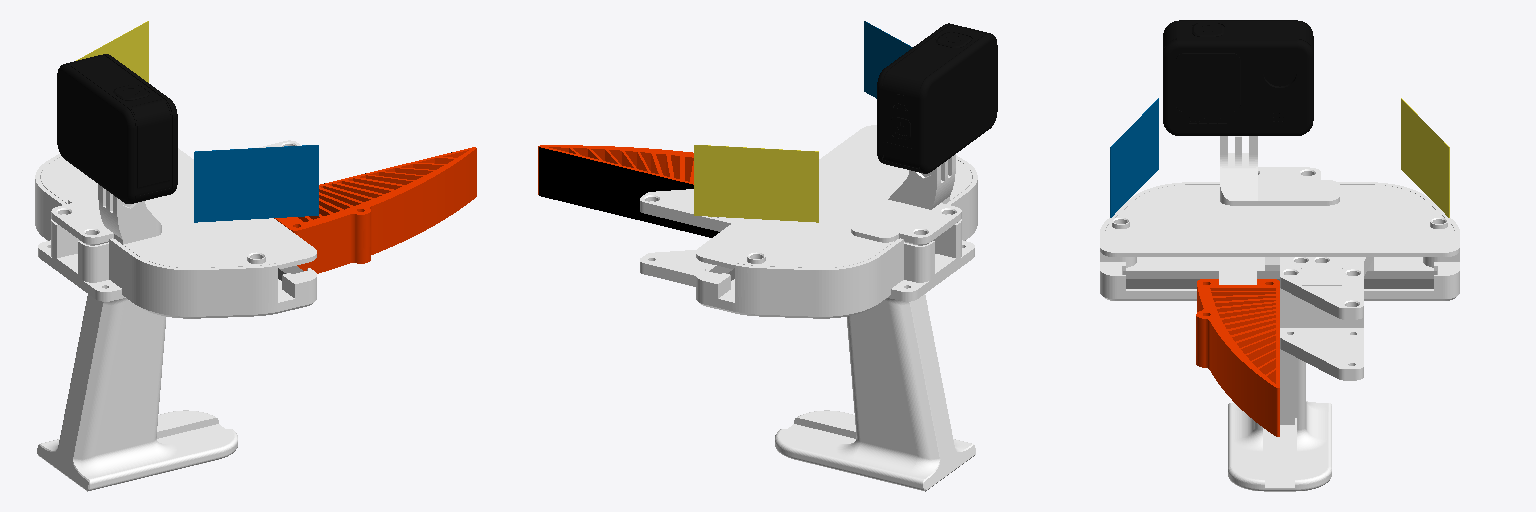
The robot description file, URDF, robot "umi_gripper":
<?xml version="1.0"?>
<robot name="umi_gripper">


  <material name="orange">
    <color rgba="1 0.27 0.0 1" />
  </material>

  <material name="dark_gray">
    <color rgba="0.1 0.1 0.1 1" />
  </material>

  <material name="white">
    <color rgba="1 1 1 1" />
  </material>

  <material name="black">
    <color rgba="0 0 0 1" />
  </material>

  <link name="world">
    <inertial>
      <mass value="0.001"/>
      <inertia ixx="0.000000001" iyy="0.000000001" izz="0.000000001" ixy="0" ixz="0" iyz="0"/>
    </inertial>
  </link>

  <link name="world_link_linear_x">
    <inertial>
      <mass value="0.001"/>
      <inertia ixx="0.000000001" iyy="0.000000001" izz="0.000000001" ixy="0" ixz="0" iyz="0"/>
    </inertial>
  </link>

  <link name="world_link_linear_y">
    <inertial>
      <mass value="0.001"/>
      <inertia ixx="0.000000001" iyy="0.000000001" izz="0.000000001" ixy="0" ixz="0" iyz="0"/>
    </inertial>
  </link>

  <link name="world_link_linear_z">
    <inertial>
      <mass value="0.001"/>
      <inertia ixx="0.000000001" iyy="0.000000001" izz="0.000000001" ixy="0" ixz="0" iyz="0"/>
    </inertial>
  </link>

  <link name="world_link_rotation_x">
    <inertial>
      <mass value="0.001"/>
      <inertia ixx="0.000000001" iyy="0.000000001" izz="0.000000001" ixy="0" ixz="0" iyz="0"/>
    </inertial>
  </link>

  <link name="world_link_rotation_y">
    <inertial>
      <mass value="0.001"/>
      <inertia ixx="0.000000001" iyy="0.000000001" izz="0.000000001" ixy="0" ixz="0" iyz="0"/>
    </inertial>
  </link>

  <link name="linear_rail">
    <visual>
      <origin xyz="0 0 0" rpy="0 0 0" />
      <geometry>
        <mesh filename="meshes/assets/linear_rail.stl" />
      </geometry>
      <material name="light_gray">
        <color rgba="0.60000392 0.60000392 0.60000392 1.00000000"/>
      </material>
    </visual>
    <inertial>
      <mass value="0.070"/>
      <inertia ixx="0.000131496458" iyy="0.000000718958" izz="0.000131722500" ixy="0" ixz="0" iyz="0"/>
    </inertial>
  </link>

  <link name="base_link_top">
    <visual>
      <origin xyz="0 0 0" rpy="0 0 0" />
      <geometry>
        <mesh filename="meshes/assets/umi_base_top.stl" />
      </geometry>
      <material name="white">
        <color rgba="1.00000000 1.00000000 1.00000000 1.00000000"/>
      </material>
    </visual>
    <inertial>
      <origin xyz="-0.03225 0 0.021" rpy="0 0 0" />
      <mass value="0.050" />
      <inertia
        ixx="0.000123362667"
        iyy="0.000024800167"
        izz="0.000147970833"
        ixy="0"
        ixz="0"
        iyz="0"/>
    </inertial>
  </link>

  <link name="base_link_bottom">
    <visual>
      <origin xyz="0 0 0" rpy="0 0 0" />
      <geometry>
        <mesh filename="meshes/assets/umi_base_bottom.stl" />
      </geometry>
      <material name="white">
        <color rgba="1.00000000 1.00000000 1.00000000 1.00000000"/>
      </material>
    </visual>
    <inertial>
      <origin xyz="-0.040 0 0.00785" rpy="0 0 0" />
      <mass value="0.055" />
      <inertia
        ixx="0.000138763579"
        iyy="0.000041459229"
        izz="0.000173882317"
        ixy="0"
        ixz="0"
        iyz="0"/>
    </inertial>
  </link>

  <link name="base_link_grip">
    <visual>
      <origin xyz="0 0 0" rpy="0 0 0" />
      <geometry>
        <mesh filename="meshes/assets/umi_base_grip.stl" />
      </geometry>
      <material name="white">
        <color rgba="1.00000000 1.00000000 1.00000000 1.00000000"/>
      </material>
    </visual>
    <inertial>
      <origin xyz="-0.058 0 -0.057" rpy="0 0.12 0" />
      <mass value="0.046" />
      <inertia 
        ixx="0.000037724167"
        iyy="0.000041169500"
        izz="0.000008228833"
        ixy="0" 
        ixz="0" 
        iyz="0" 
        />
    </inertial>
  </link>

  <link name="camera">
    <visual>
      <origin xyz="0 0 0" rpy="0 0 0" />
      <geometry>
        <mesh filename="meshes/assets/gopro.stl" />
      </geometry>
      <material name="dark_gray" />
    </visual>
    <inertial>
      <origin xyz="-0.01375 -0.0199 -0.00915" rpy="0 0 0" />
      <mass value="0.127"/>
      <inertia ixx="0.00008187139667" iyy="0.00003925993333" izz="0.00006650778333" ixy="0" ixz="0" iyz="0" />
    </inertial>
  </link>

  <link name="left_mirror">
    <visual>
      <origin xyz="-0.021 0.0695 0.058" rpy="1.5707963 0 0.392699" />
      <geometry>
        <box size="0.06 0.0374 0.0002" />
      </geometry>
    </visual>
    <inertial>
      <origin xyz="-0.021 0.0695 0.058" rpy="1.5707963 0.392699 0" />
      <mass value="0.005"/>
      <inertia ixx="0.000000582833" iyy="0.000001500017" izz="0.000002082817" ixy="0" ixz="0" iyz="0"/>
    </inertial>
  </link>

  <link name="right_mirror">
    <visual>
      <origin xyz="-0.021 -0.0695 0.058" rpy="1.5707963 0 -0.392699" />
      <geometry>
        <box size="0.06 0.0374 0.0002" />
      </geometry>
    </visual>
    <inertial>
      <origin xyz="-0.021 -0.0695 0.058" rpy="1.5707963 -0.392699 0" />
      <mass value="0.005"/>
      <inertia ixx="0.000000582833" iyy="0.000001500017" izz="0.000002082817" ixy="0" ixz="0" iyz="0"/>
    </inertial>
  </link>

  <link name="left_carriage">
    <visual>
      <origin xyz="0 0 0" rpy="0 0 0" />
      <geometry>
        <mesh filename="meshes/assets/left_finger_holder.stl" />
      </geometry>
      <material name="white">
        <color rgba="1.00000000 1.00000000 1.00000000 1.00000000"/>
      </material>
    </visual>
    <inertial>
      <origin xyz="0.0265 0.020 0" rpy="0 0 0" />
      <mass value="0.020" />
      <inertia ixx="0.000005781667" iyy="0.000012808333" izz="0.000013776667" ixy="0" ixz="0" iyz="0" />
    </inertial>
  </link>

  <link name="right_carriage">
    <visual>
      <origin xyz="0 0 0" rpy="0 0 0" />
      <geometry>
        <mesh filename="meshes/assets/right_finger_holder.stl" />
      </geometry>
      <material name="white">
        <color rgba="1.00000000 1.00000000 1.00000000 1.00000000"/>
      </material>
    </visual>
    <inertial>
      <origin xyz="0.0265 -0.020 0" rpy="0 0 0" />
      <mass value="0.020" />
      <inertia ixx="0.000005781667" iyy="0.000012808333" izz="0.000013776667" ixy="0" ixz="0" iyz="0" />
    </inertial>
  </link>

  <link name="left_finger">
    <visual>
      <origin xyz="0 0 0" rpy="0 0 0" />
      <geometry>
        <mesh filename="meshes/assets/left_finger.stl" />
      </geometry>
      <material name="orange"/>
    </visual>
    <collision name="left_finger_holder_geom_10">
      <origin xyz="0 0 0" rpy="0 0 0" />
      <geometry>
        <mesh filename="meshes/assets/umi_left_finger_collision.stl" />
      </geometry>
    </collision>
    <inertial>
      <origin xyz="0.080 0.020 0" rpy="0 0 0" />
      <mass value="0.043" />
      <inertia ixx="0.000008118543" iyy="0.000057482543" izz="0.000060830667" ixy="0" ixz="0" iyz="0" />
    </inertial>
  </link>

  <link name="right_finger">
    <visual>
      <origin xyz="0 0 0" rpy="0 0 0" />
      <geometry>
        <mesh filename="meshes/assets/right_finger.stl" />
      </geometry>
      <material name="orange"/>
    </visual>
    <collision name="right_finger_holder_geom_10">
      <origin xyz="0 0 0" rpy="0 0 0" />
      <geometry>
        <mesh filename="meshes/assets/umi_right_finger_collision.stl" />
      </geometry>
    </collision>
    <inertial>
      <origin xyz="0.080 -0.020 0" rpy="0 0 0" />
      <mass value="0.043" />
      <inertia ixx="0.000008118543" iyy="0.000057482543" izz="0.000060830667" ixy="0" ixz="0" iyz="0" />
    </inertial>
  </link>

  <link name="left_sticker">
    <visual>
      <origin xyz="0.0265 0.02 0.0178" rpy="0 0 -1.5707963" />
      <geometry>
        <box size="0.018 0.018 0.00002" />
      </geometry>
      <material name="Left_Aruco_Base_Sticker">
        <color rgba="1.00000000 1.00000000 1.00000000 1.00000000"/>
        <texture filename="textures/assets/left_aruco_sticker.png" />
      </material>
    </visual>
    <inertial>
      <origin xyz="0.0265 0.02 0.0178" rpy="0 0 0" />
      <mass value="0.005" />
      <inertia
        ixx="0.000000135000"
        iyy="0.000000135000"
        izz="0.000000270000"
        ixy="0"
        ixz="0"
        iyz="0"/>
    </inertial>
  </link>

  <link name="right_sticker">
    <visual>
      <origin xyz="0.0265 -0.02 0.0178" rpy="0 0 -1.5707963" />
      <geometry>
        <box size="0.018 0.018 0.00002" />
      </geometry>
      <material name="Right_Aruco_Base_Sticker">
        <color rgba="1.00000000 1.00000000 1.00000000 1.00000000"/>
        <texture filename="textures/assets/right_aruco_sticker.png" />
      </material>
    </visual>
    <inertial>
      <origin xyz="0.0265 -0.02 0.0178" rpy="0 0 0" />
      <mass value="0.005" />
      <inertia
        ixx="0.000000135000"
        iyy="0.000000135000"
        izz="0.000000270000"
        ixy="0"
        ixz="0"
        iyz="0"/>
    </inertial>
  </link>

  <link name="left_tape">
    <visual>
      <origin xyz="0.079 0 -0.001" rpy="1.5707963 0 0" />
      <geometry>
        <box size="0.12 0.0258 0.00002" />
      </geometry>
      <material name="black" />
    </visual>
    <inertial>
      <origin xyz="0.079 0 -0.001" rpy="1.5707963 0 0" />
      <mass value="0.005"/>
      <inertia 
        ixx="0.000000277350"
        iyy="0.000006000000"
        izz="0.000006277350"
        ixy="0" 
        ixz="0" 
        iyz="0"
        />
    </inertial>
  </link>

  <link name="right_tape">
    <visual>
      <origin xyz="0.079 0 -0.001" rpy="1.5707963 0 0" />
      <geometry>
        <box size="0.12 0.0258 0.00002" />
      </geometry>
      <material name="black" />
    </visual>
    <inertial>
      <origin xyz="0.079 0 -0.001" rpy="1.5707963 0 0" />
      <mass value="0.005"/>
      <inertia 
        ixx="0.000000277350"
        iyy="0.000006000000"
        izz="0.000006277350"
        ixy="0" 
        ixz="0" 
        iyz="0"
        />
    </inertial>
  </link>

  <link name="eef_link">
    <inertial>
      <mass value="0.001"/>
      <inertia ixx="0.000000001" iyy="0.000000001" izz="0.000000001" ixy="0" ixz="0" iyz="0"/>
    </inertial>
  </link>


  <joint name="gripper_joint_x" type="prismatic">
    <parent link="world" />
    <child link="world_link_linear_x" />
    <origin xyz="0 0 0" rpy="0 0 0" />
    <axis xyz="1 0 0" />
    <limit lower="-2.0" upper="2.0" effort="0" velocity="0" />
    <dynamics damping="0.1" friction="0.1" />
  </joint>

  <joint name="gripper_joint_y" type="prismatic">
    <parent link="world_link_linear_x" />
    <child link="world_link_linear_y" />
    <origin xyz="0 0 0" rpy="0 0 0" />
    <axis xyz="0 1 0" />
    <limit lower="-2.0" upper="2.0" effort="0" velocity="0" />
    <dynamics damping="0.1" friction="0.1" />
  </joint>

  <joint name="gripper_joint_z" type="prismatic">
    <parent link="world_link_linear_y" />
    <child link="world_link_linear_z" />
    <origin xyz="0 0 0" rpy="0 0 0" />
    <axis xyz="0 0 1" />
    <limit lower="-2.0" upper="2.0" effort="0" velocity="0" />
    <dynamics damping="0.1" friction="0.1" />
  </joint>

  <joint name="gripper_joint_rx" type="revolute">
    <parent link="world_link_linear_z" />
    <child link="world_link_rotation_x" />
    <origin xyz="0 0 0" rpy="0 0 0" />
    <axis xyz="1 0 0" />
    <limit lower="-31.415" upper="31.415" effort="0" velocity="0" />
    <dynamics damping="10.1" friction="0.1" />
  </joint>

  <joint name="gripper_joint_ry" type="revolute">
    <parent link="world_link_rotation_x" />
    <child link="world_link_rotation_y" />
    <origin xyz="0 0 0" rpy="0 0 0" />
    <axis xyz="0 1 0" />
    <limit lower="-31.415" upper="31.415" effort="0" velocity="0" />
    <dynamics damping="10.1" friction="0.1" />
  </joint>

  <joint name="gripper_joint_rz" type="revolute">
    <parent link="world_link_rotation_y" />
    <child link="base_link_top" />
    <origin xyz="0 0 0" rpy="0 0 0" />
    <axis xyz="0 0 1" />
    <limit lower="-31.415" upper="31.415" effort="0" velocity="0" />
    <dynamics damping="10.1" friction="0.1" />
  </joint>

  <joint name="fix_base_link_bottom" type="fixed" dont_collapse="true">
    <parent link="base_link_top" />
    <child link="base_link_bottom" />
    <origin xyz="0 0 0" rpy="0 0 0" />
  </joint>

  <joint name="fix_base_link_grip" type="fixed" dont_collapse="true">
    <parent link="base_link_top" />
    <child link="base_link_grip" />
    <origin xyz="0 0 0" rpy="0 0 0" />
  </joint>

  <joint name="fix_linear_rail_and_base_link" type="fixed" dont_collapse="true">
    <parent link="base_link_top" />
    <child link="linear_rail" />
    <origin xyz="0 0 0" rpy="0 0 0" />
  </joint>

  <joint name="fix_linear_rail_and_gopro" type="fixed" dont_collapse="true">
    <parent link="linear_rail" />
    <child link="camera" />
    <origin xyz="-0.0552 0.0 0.087" rpy="0 0 0" />
  </joint>

  <joint name="fix_linear_rail_and_left_mirror" type="fixed" dont_collapse="true">
    <parent link="linear_rail" />
    <child link="left_mirror" />
    <origin xyz="0 0 0" rpy="0 0 0" />
  </joint>

  <joint name="fix_linear_rail_and_right_mirror" type="fixed" dont_collapse="true">
    <parent link="linear_rail" />
    <child link="right_mirror" />
    <origin xyz="0 0 0" rpy="0 0 0" />
  </joint>

  <joint name="left_finger_joint" type="prismatic">
    <parent link="linear_rail" />
    <child link="left_carriage" />
    <origin xyz="0 0 0" rpy="0 0 0" />
    <axis xyz="0 1 0" />
    <limit lower="0" upper="0.0425" effort="10" velocity="0.1" />
    <dynamics damping="10.1" friction="0.1" />
  </joint>

  <joint name="right_finger_joint" type="prismatic">
    <parent link="linear_rail" />
    <child link="right_carriage" />
    <origin xyz="0 0 0" rpy="0 0 0" />
    <axis xyz="0 -1 0" />
    <mimic joint="left_finger_joint" multiplier="1" offset="0" />
    <limit lower="0" upper="0.0425" effort="10" velocity="0.1" />
    <dynamics damping="10.1" friction="0.1" />
  </joint>

  <joint name="left_finger_passive_joint" type="prismatic" dont_collapse="true">
    <parent link="left_carriage" />
    <child link="left_finger" />
    <origin xyz="0 0 0" rpy="0 0 0" />
    <axis xyz="0 1 0" />
    <limit lower="0" upper="0.01" effort="10" velocity="0.1" />
    <dynamics damping="10.1" friction="0.1" />
  </joint>

  <joint name="right_finger_passive_joint" type="prismatic" dont_collapse="true">
    <parent link="right_carriage" />
    <child link="right_finger" />
    <origin xyz="0 0 0" rpy="0 0 0" />
    <axis xyz="0 -1 0" />
    <mimic joint="left_finger_passive_joint" multiplier="1" offset="0" />
    <limit lower="0" upper="0.01" effort="10" velocity="0.1" />
    <dynamics damping="10.1" friction="0.1" />
  </joint>

  <joint name="fix_left_carriage_and_sticker" type="fixed" dont_collapse="true">
    <parent link="left_carriage" />
    <child link="left_sticker" />
    <origin xyz="0 0 0" rpy="0 0 0" />
  </joint>

  <joint name="fix_right_carriage_and_sticker" type="fixed" dont_collapse="true">
    <parent link="right_carriage" />
    <child link="right_sticker" />
    <origin xyz="0 0 0" rpy="0 0 0" />
  </joint>

  <joint name="fix_left_tape_and_left_finger" type="fixed" dont_collapse="true">
    <parent link="left_finger" />
    <child link="left_tape" />
    <origin xyz="0 0 0" rpy="0 0 0" />
  </joint>

  <joint name="fix_right_tape_and_right_finger" type="fixed" dont_collapse="true">
    <parent link="right_finger" />
    <child link="right_tape" />
    <origin xyz="0 0 0" rpy="0 0 0" />
  </joint>
  
  <joint name="fix_linear_rail_and_end_effector" type="fixed" dont_collapse="true">
    <parent link="linear_rail" />
    <child link="eef_link" />
    <origin xyz="0.14 0 0" rpy="0 0 0" />
  </joint>


</robot>

--- Facts derived from the render (not from the file) ---
Views: 3 orthographic renders of the robot side by side, from view 1: azimuth 30°, elevation 25°; view 2: azimuth 150°, elevation 25°; view 3: azimuth 270°, elevation 25°.
Model umi_gripper with 22 links and 21 joints (3 revolute, 7 prismatic, 11 fixed), rooted at world, posed all joints at 0.
Visible links, largest first — view 1: base_link_grip, base_link_top, base_link_bottom, camera, right_finger, right_mirror, left_mirror; view 2: base_link_grip, base_link_top, base_link_bottom, camera, left_mirror, left_tape, left_carriage, right_finger, right_mirror; view 3: base_link_top, camera, right_finger, base_link_grip, left_carriage, base_link_bottom, left_mirror, right_mirror, linear_rail, left_sticker, right_sticker.
Boxes of the visible links, box(x1,y1,x2,y2) form: base_link_grip: box(37, 294, 237, 491); base_link_top: box(41, 148, 316, 268); base_link_bottom: box(35, 154, 316, 318); camera: box(57, 54, 177, 203); right_finger: box(274, 147, 476, 273); right_mirror: box(194, 145, 318, 222); left_mirror: box(76, 21, 148, 82); base_link_grip: box(775, 294, 975, 491); base_link_top: box(696, 125, 971, 268); base_link_bottom: box(696, 155, 977, 318); camera: box(877, 23, 997, 173); left_mirror: box(694, 145, 818, 222); left_tape: box(539, 147, 719, 237); left_carriage: box(640, 189, 738, 286); right_finger: box(538, 145, 693, 194); right_mirror: box(864, 21, 912, 98); base_link_top: box(1100, 136, 1459, 256); camera: box(1163, 20, 1313, 135); right_finger: box(1196, 279, 1279, 436); base_link_grip: box(1228, 257, 1331, 491); left_carriage: box(1280, 257, 1373, 380); base_link_bottom: box(1100, 182, 1459, 300); left_mirror: box(1401, 98, 1449, 217); right_mirror: box(1110, 98, 1158, 217); linear_rail: box(1123, 271, 1436, 288); left_sticker: box(1303, 269, 1340, 284); right_sticker: box(1219, 269, 1256, 284).
Bounding box of the posed robot: 0.228 × 0.172 × 0.2108 m (x, y, z).
Meshes: 9 distinct files referenced, 7 mesh visuals loaded (7 binary STL); not drawn: 2 (reference not matched to a file when rendering).
